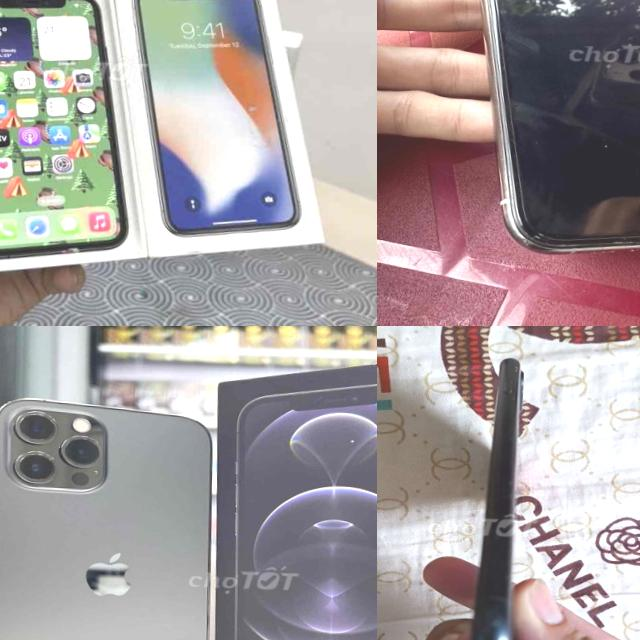scratch: (514, 230, 540, 256), (609, 238, 632, 248), (510, 362, 522, 374)
